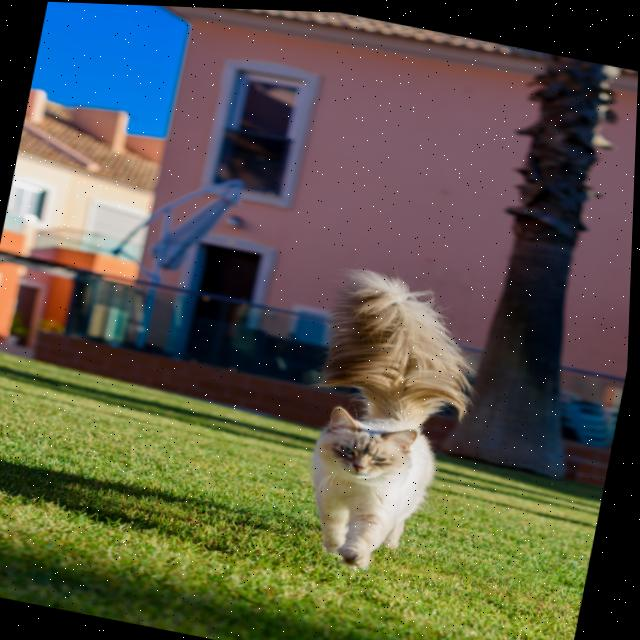Neva Masquerade: (275, 252, 500, 591)
